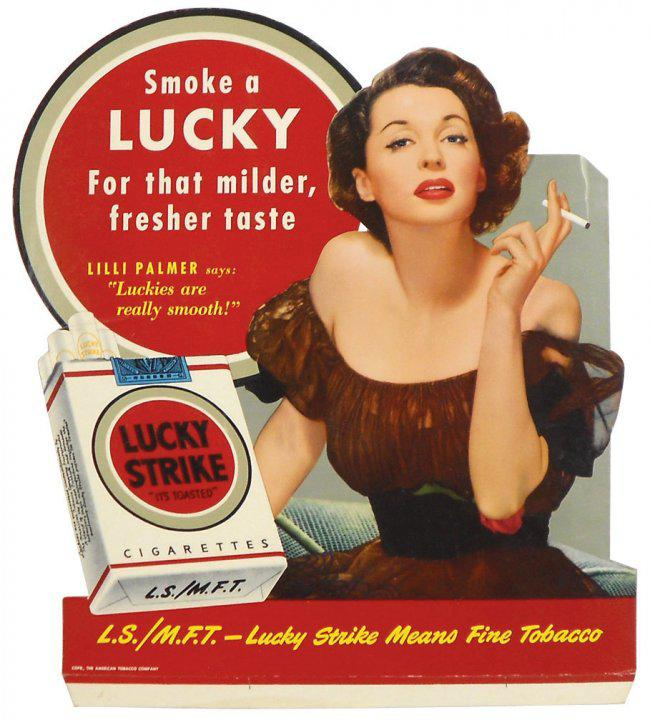lucky_strike_red: (90, 359, 248, 571)
